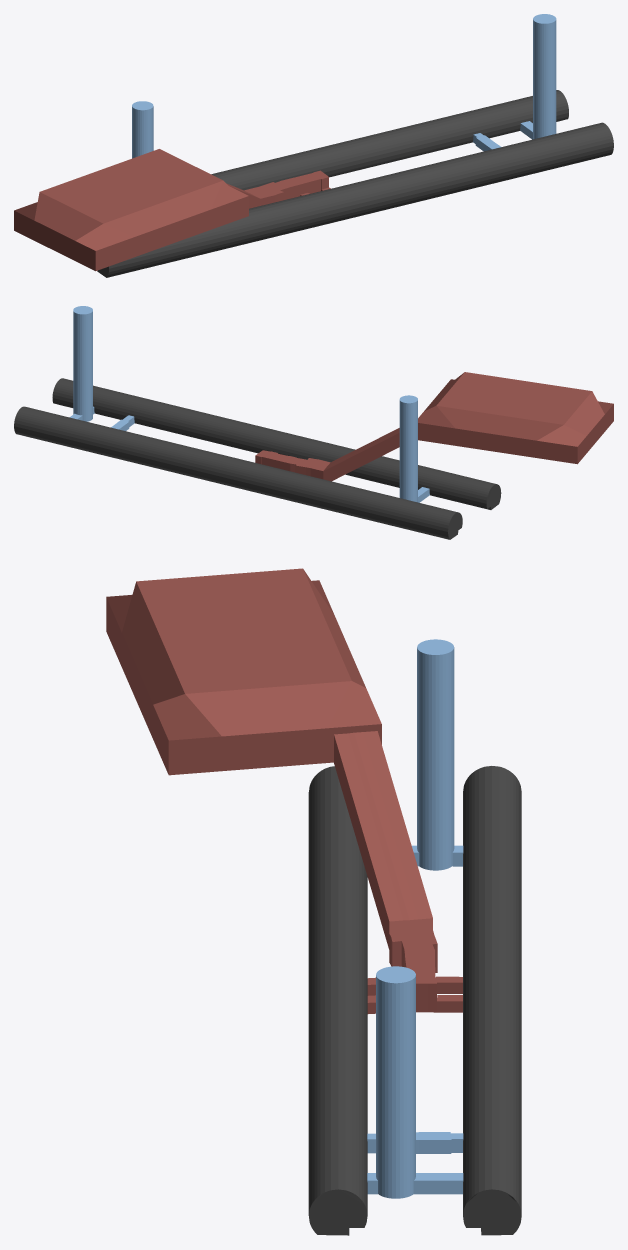
The picture shows the model from 3 angles, top to bottom: view 1: azimuth 30°, elevation 25°; view 2: azimuth 150°, elevation 25°; view 3: azimuth 270°, elevation 25°; orthographic projection. The views are drawn at different scales.
Visible parts, largest first — view 1: TicketHall, PLT1, PLT2, 15, Concourse, 26; view 2: PLT2, TicketHall, PLT1, 15, 26, ESC, Concourse; view 3: TicketHall, PLT2, PLT1, 15, ESC, 26, Concourse, 33.
Part boxes in pixels (<box>): TicketHall: <box>14,149,248,271</box>; PLT1: <box>97,122,613,277</box>; PLT2: <box>211,90,568,190</box>; 15: <box>520,14,556,139</box>; Concourse: <box>244,170,328,205</box>; 26: <box>132,101,153,158</box>; PLT2: <box>14,406,462,539</box>; TicketHall: <box>418,372,613,464</box>; PLT1: <box>52,378,501,509</box>; 15: <box>69,306,94,421</box>; 26: <box>399,395,429,502</box>; ESC: <box>323,428,399,481</box>; Concourse: <box>255,450,330,479</box>; TicketHall: <box>106,568,381,775</box>; PLT2: <box>463,766,521,1235</box>; PLT1: <box>308,766,367,1235</box>; 15: <box>367,966,463,1198</box>; ESC: <box>334,731,432,949</box>; 26: <box>412,639,463,870</box>; Concourse: <box>389,918,437,1012</box>; 33: <box>367,1132,463,1153</box>.
Size of the model in its own units: 186 by 38.67 by 65.05.
